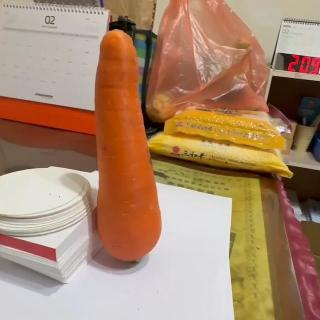carrot: (88, 28, 164, 264)
